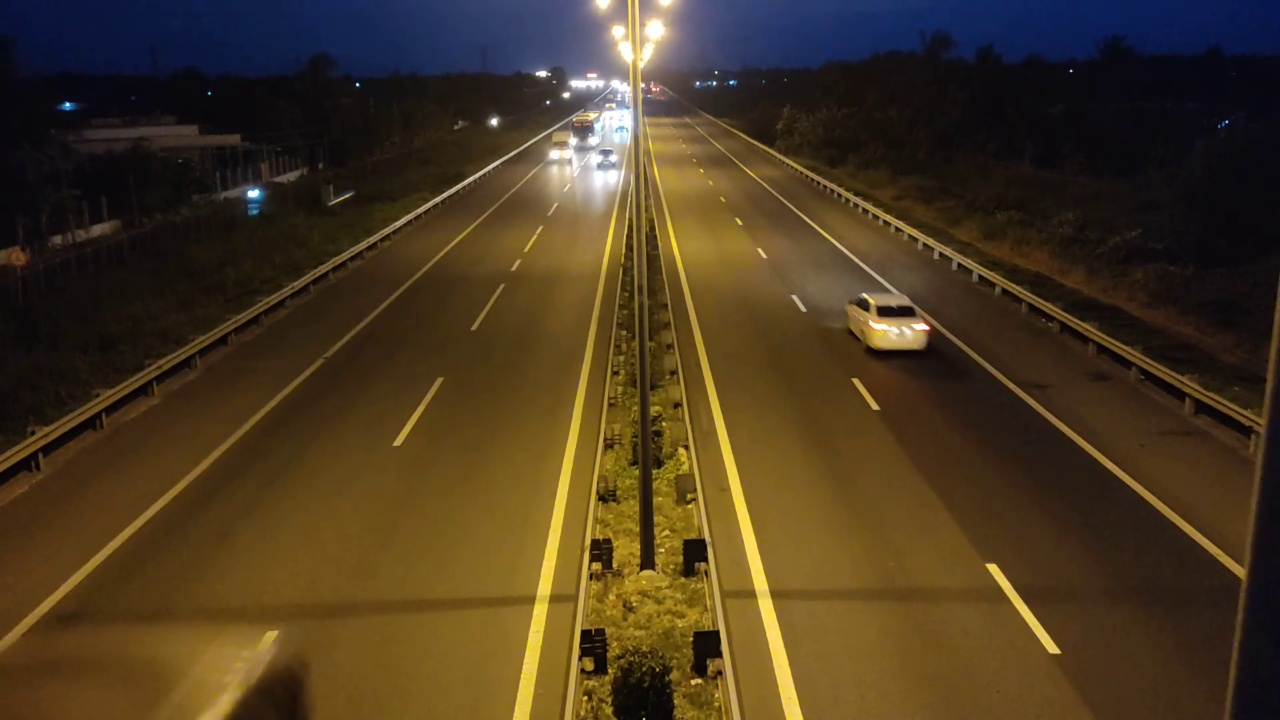car: (845, 290, 932, 352)
